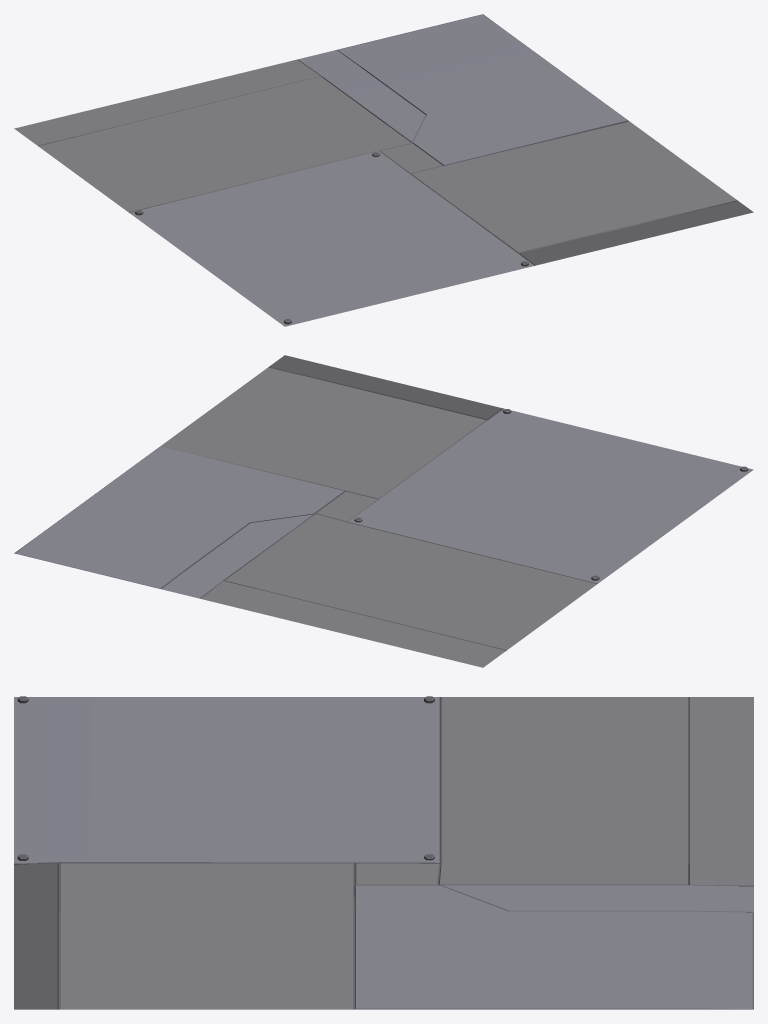
File: FloorSciFiPanel_03.glb
3 renders of one model, top to bottom at view 1: azimuth 30°, elevation 25°; view 2: azimuth 150°, elevation 25°; view 3: azimuth 270°, elevation 25°, orthographic. The views are drawn at different scales.
Parts seen in each view (by area): view 1: FloorSciFiPanel_03; view 2: FloorSciFiPanel_03; view 3: FloorSciFiPanel_03.
Boxes of the visible parts, bbox=[...] form: FloorSciFiPanel_03: bbox=[14, 14, 753, 326]; FloorSciFiPanel_03: bbox=[14, 355, 753, 667]; FloorSciFiPanel_03: bbox=[14, 696, 753, 1009].
Size of what is drawn, in the model's own units: 2 by 0.00986 by 2.
Materials: 1 (1 with a texture image).
